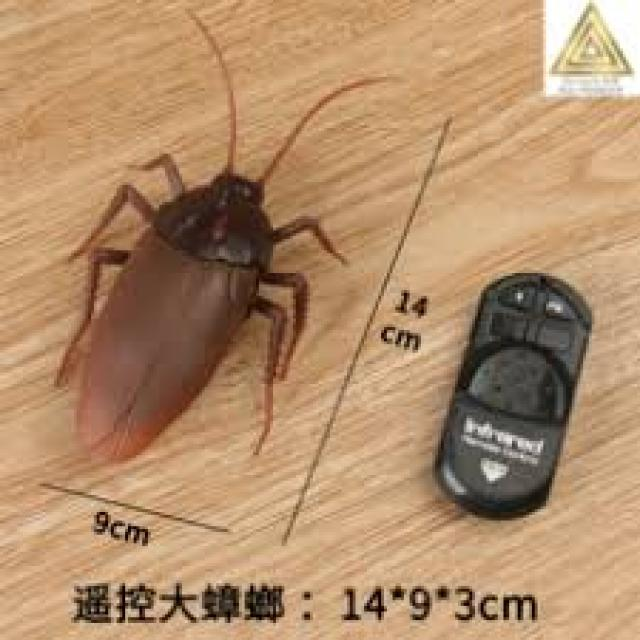Cockroach: (35, 27, 368, 484)
